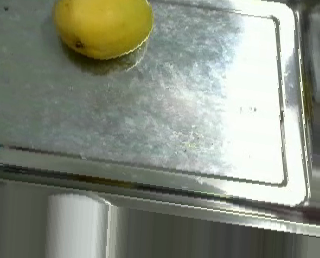Mango: (52, 0, 152, 61)
